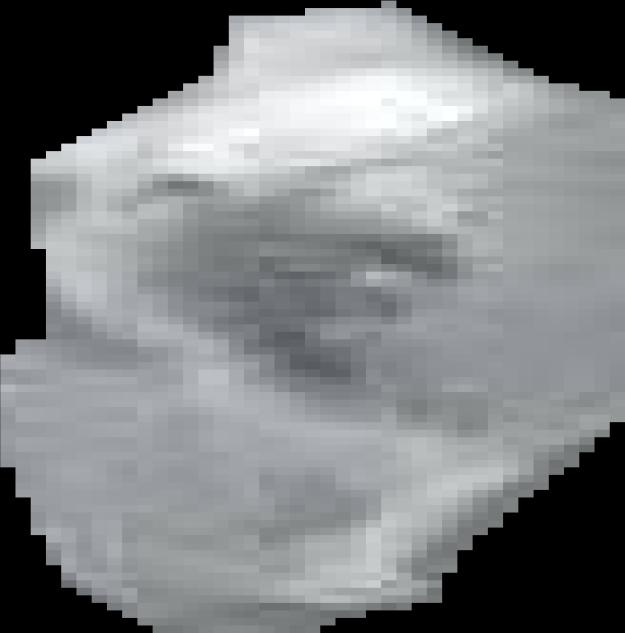tumor_good_chance: (0, 1, 625, 633)
